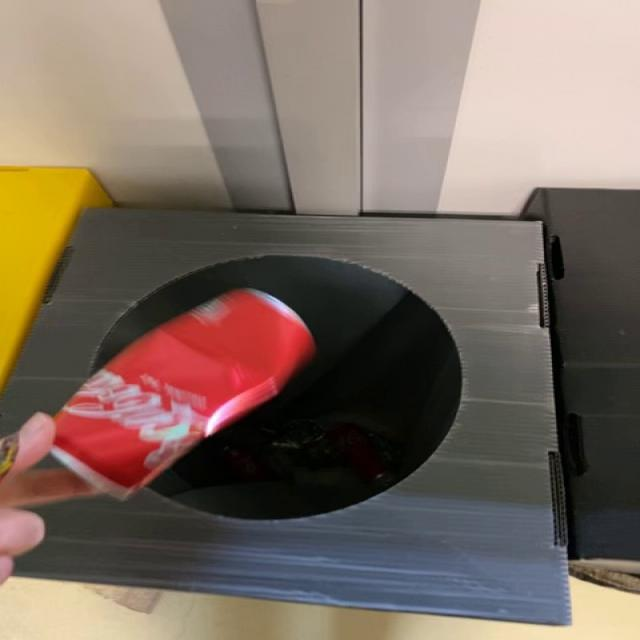bin: (1, 210, 572, 626)
metal: (53, 289, 315, 500)
